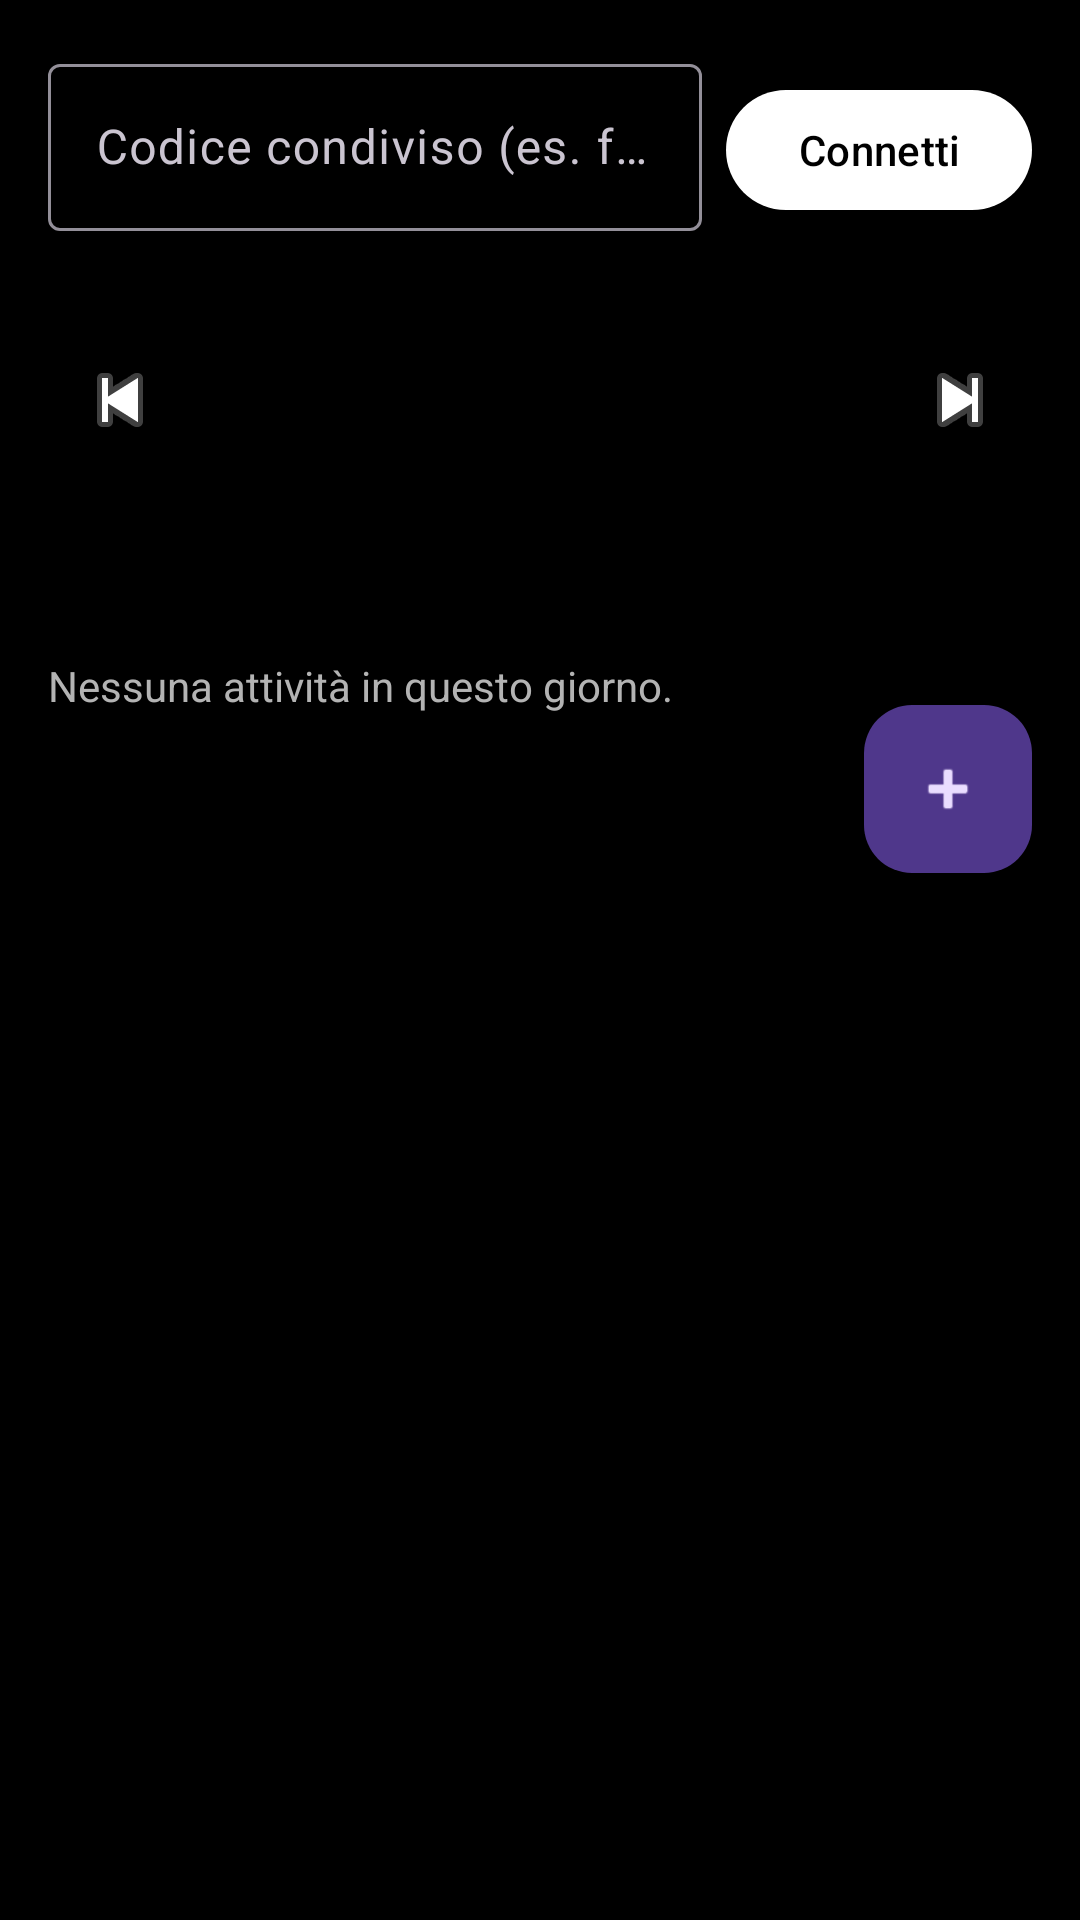

Icon bounding boxes for this 1080x1920 phone screenshot, format BBox(x1, y1, x2, y2):
next: BBox(937, 373, 983, 427)
Nuova attività: BBox(864, 705, 1032, 873)
previous: BBox(97, 373, 143, 427)
